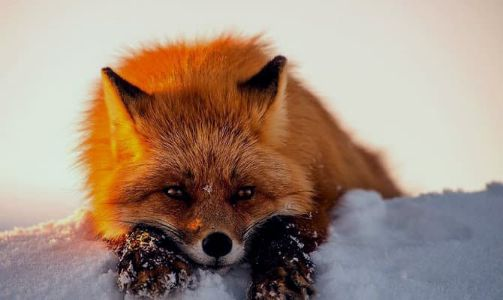fox: (74, 30, 366, 295)
